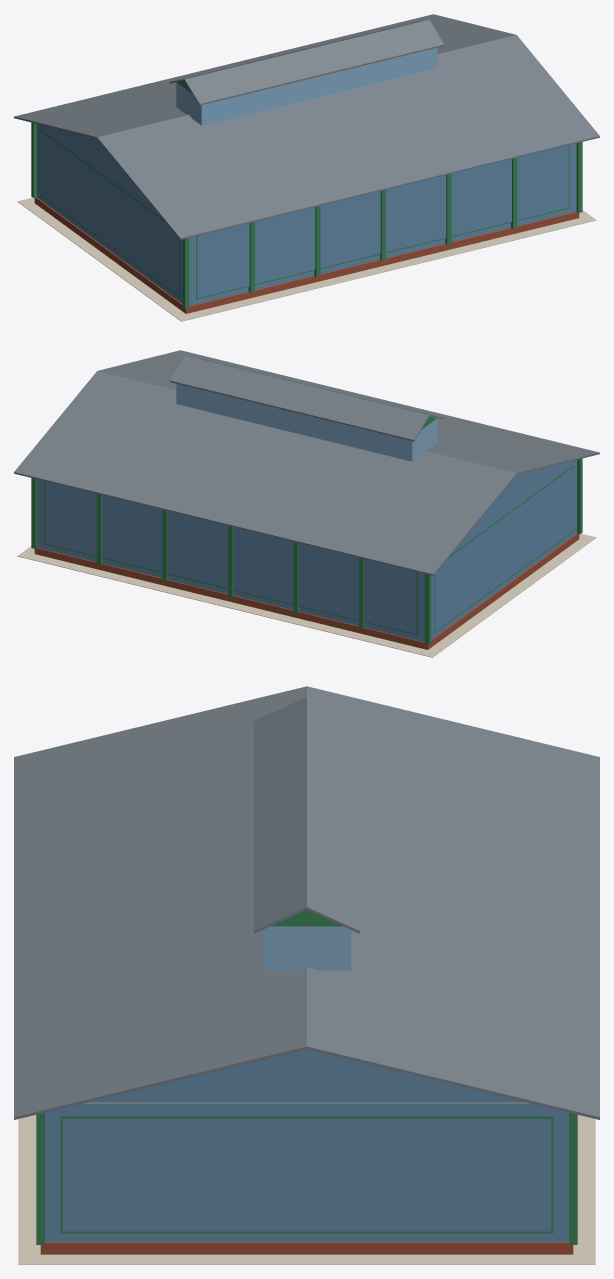
Rendered from halle_marche.glb.
3 renders of one model, top to bottom at view 1: azimuth 30°, elevation 25°; view 2: azimuth 150°, elevation 25°; view 3: azimuth 270°, elevation 25°, orthographic. The views are drawn at different scales.
Visible parts, largest first — view 1: halle_marche; view 2: halle_marche; view 3: halle_marche.
Part boxes in pixels (left/top/right/bottom): halle_marche: left=14, top=14, right=599, bottom=321; halle_marche: left=14, top=350, right=599, bottom=657; halle_marche: left=14, top=686, right=599, bottom=1264.
Size of the model in its own units: 38.4 by 14.14 by 26.4.
1 material, 1 textured.
